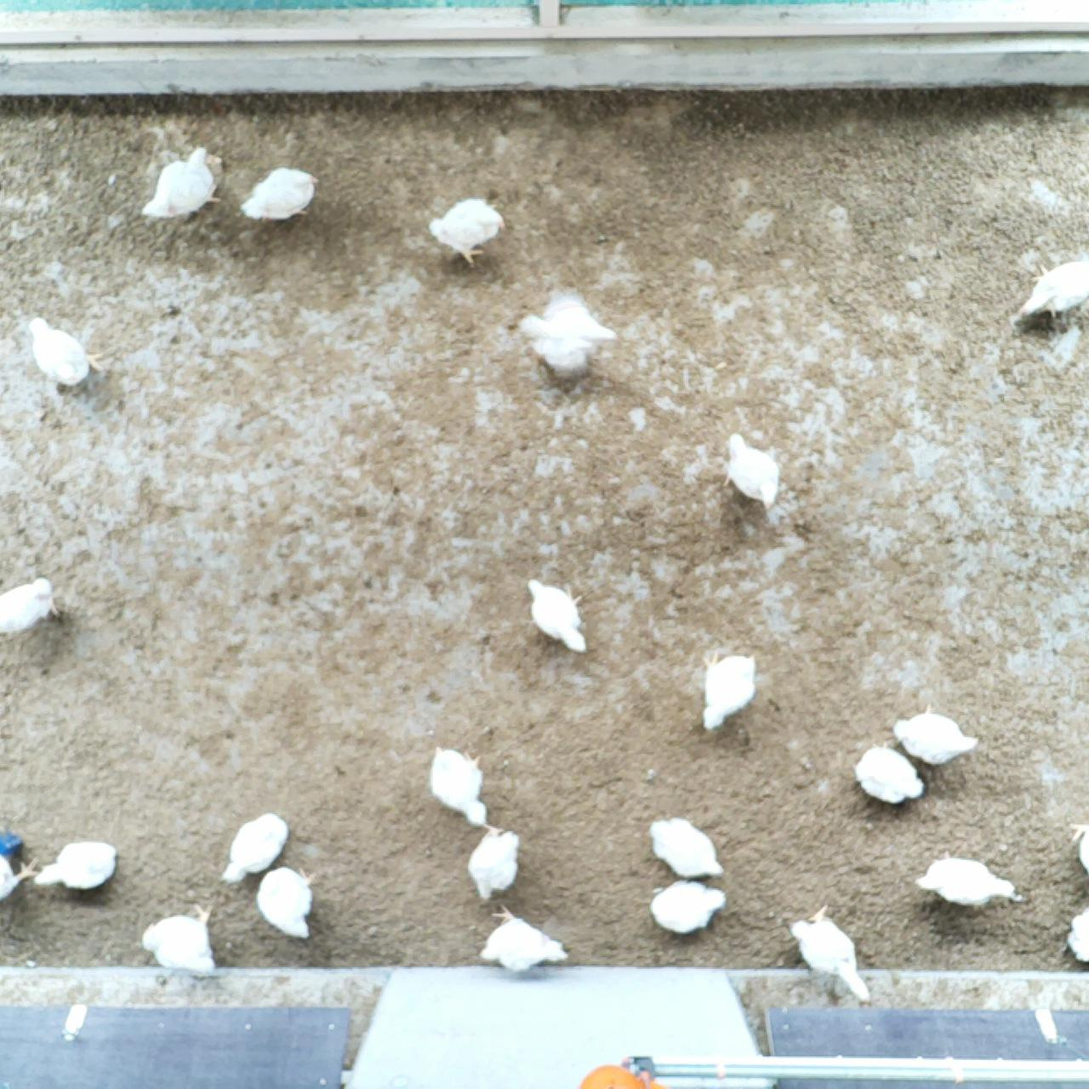chicken: (512, 282, 622, 393), (789, 901, 874, 1012), (913, 848, 1026, 919), (471, 899, 571, 976), (133, 141, 225, 223), (26, 311, 109, 398), (886, 699, 983, 770), (641, 810, 729, 885), (426, 194, 509, 270), (848, 737, 934, 810), (697, 645, 763, 740), (521, 570, 592, 656), (140, 899, 221, 974), (252, 859, 325, 941), (218, 807, 291, 889), (426, 739, 490, 829), (233, 164, 325, 226), (462, 817, 525, 907), (1010, 256, 1089, 327), (720, 428, 785, 513), (644, 876, 729, 939), (32, 837, 121, 895), (0, 575, 64, 637), (0, 847, 42, 907), (1062, 898, 1089, 966), (1062, 814, 1089, 877)
